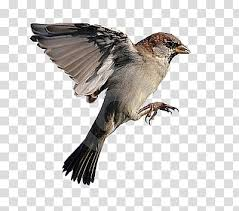hsparrow: (27, 20, 192, 187)
